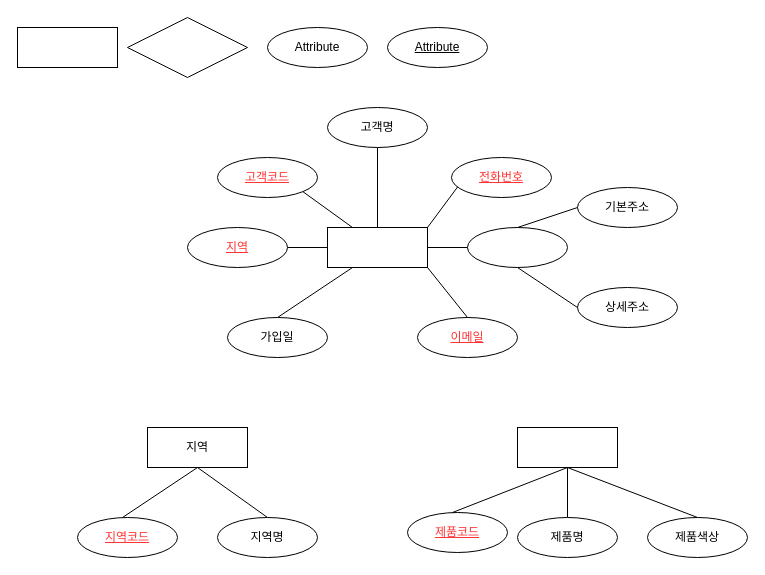
The diagram is 765 pixels wide and 575 high, and some of its shapes have lost their labels. Here are the shapes that lost their labels. From the top down, the centre of each, then its label:
At [67,47]: "Entity".
At [187,47]: "Relationship".
At [377,247]: "고객".
At [517,247]: "주소".
At [567,447]: "제품".
